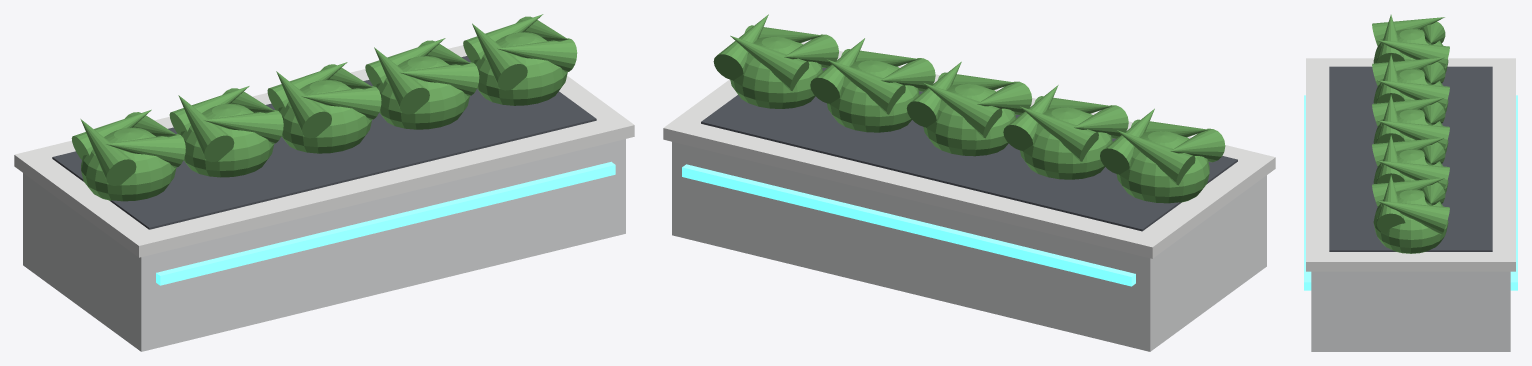
Rendered from planter-straight.glb.
3 renders of one model, left to right at view 1: azimuth 30°, elevation 25°; view 2: azimuth 150°, elevation 25°; view 3: azimuth 270°, elevation 25°, orthographic. The views are drawn at different scales.
Visible parts, largest first — view 1: planter-straight; view 2: planter-straight; view 3: planter-straight.
Part boxes in pixels (bbox=[...]): planter-straight: bbox=[14, 14, 634, 351]; planter-straight: bbox=[663, 14, 1275, 351]; planter-straight: bbox=[1304, 14, 1517, 351].
Bounding box in the file's own units: 5.32 × 1.75 × 2.36.
